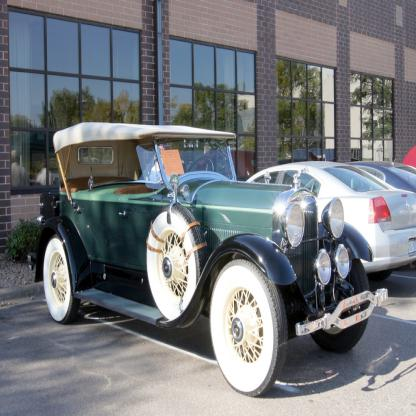Car: (24, 126, 415, 398)
